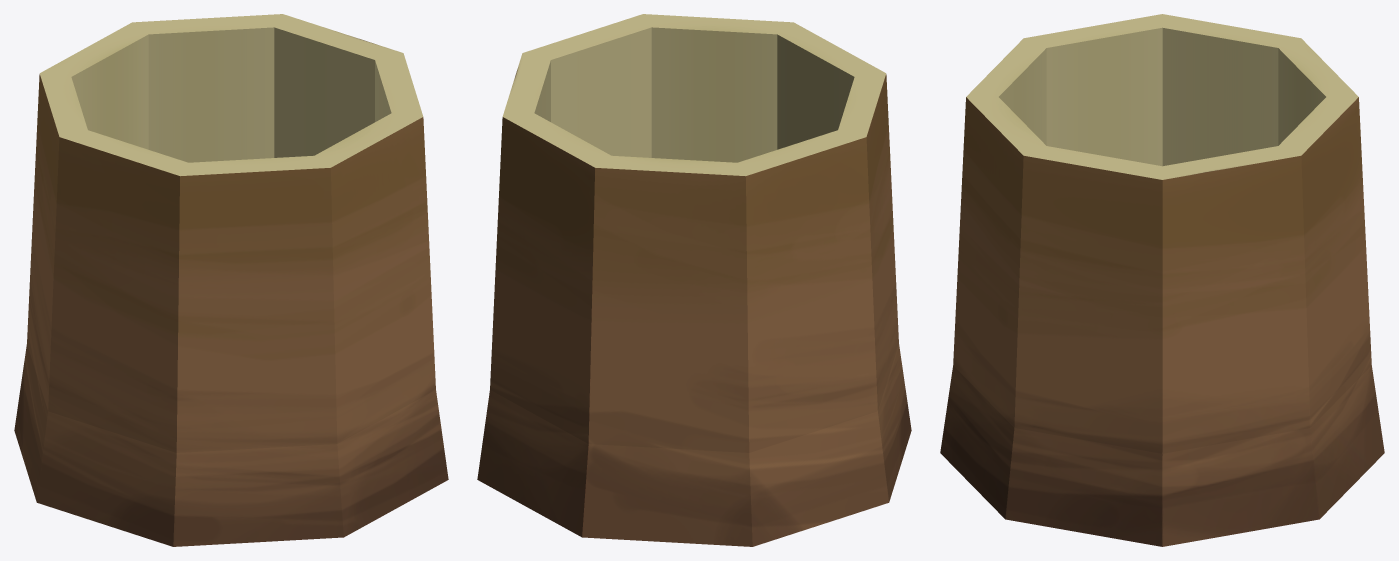
The model's file is StumpSunkin.fbx.
3 views of the same model, side by side, from view 1: azimuth 30°, elevation 25°; view 2: azimuth 150°, elevation 25°; view 3: azimuth 270°, elevation 25° (orthographic).
Parts seen in each view (by area): view 1: TallStump; view 2: TallStump; view 3: TallStump.
Boxes of the visible parts, bbox=[...] form: TallStump: bbox=[14, 14, 448, 546]; TallStump: bbox=[477, 14, 911, 546]; TallStump: bbox=[940, 14, 1384, 546].
Bounding box in the file's own units: 1040 × 919 × 1040.
